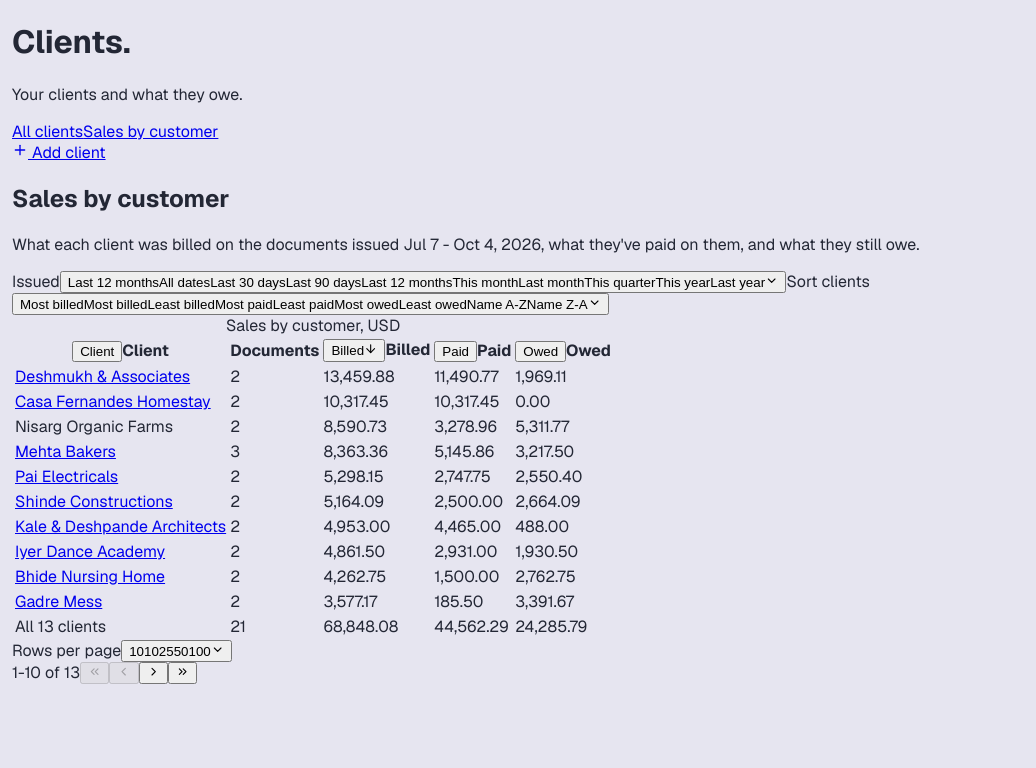
Test: pages with overall totals
expect the table is shown: met, box [14,365,612,638]
Click the button named "Next page": (153, 673) [139,662,168,684]
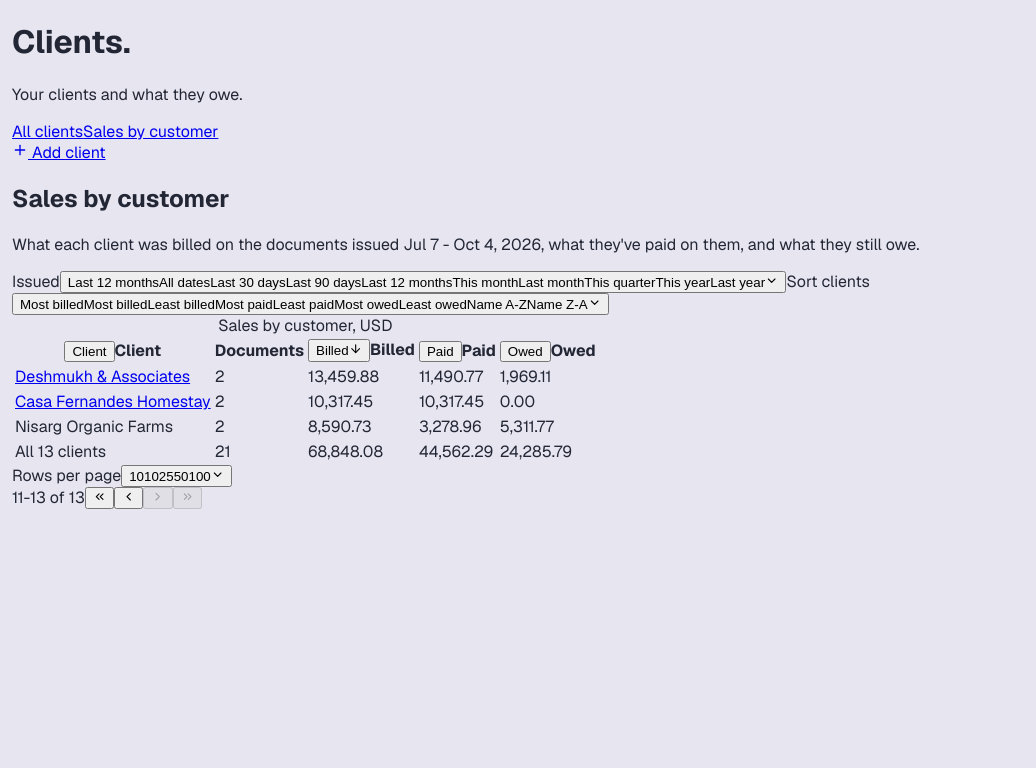
expect the cell "All 13 clients" is shown: met, box [14,440,212,463]
expect the message "11-13 of 13" is shown: met, box [12,487,85,508]
